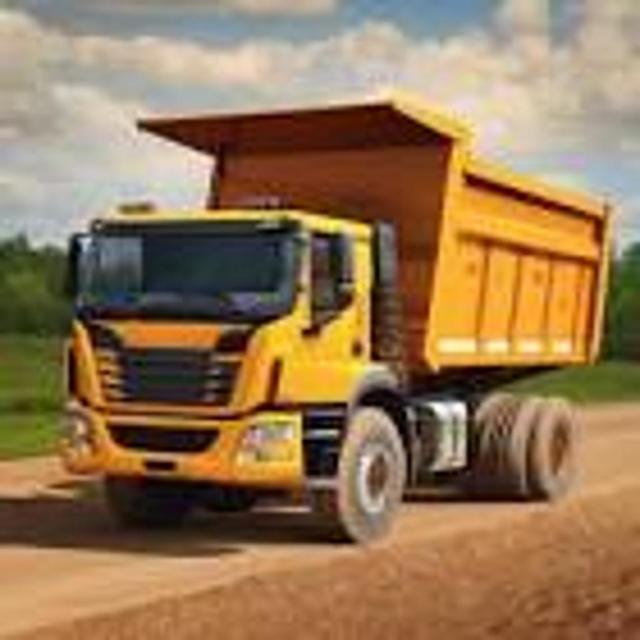dump_truck: (62, 81, 624, 536)
